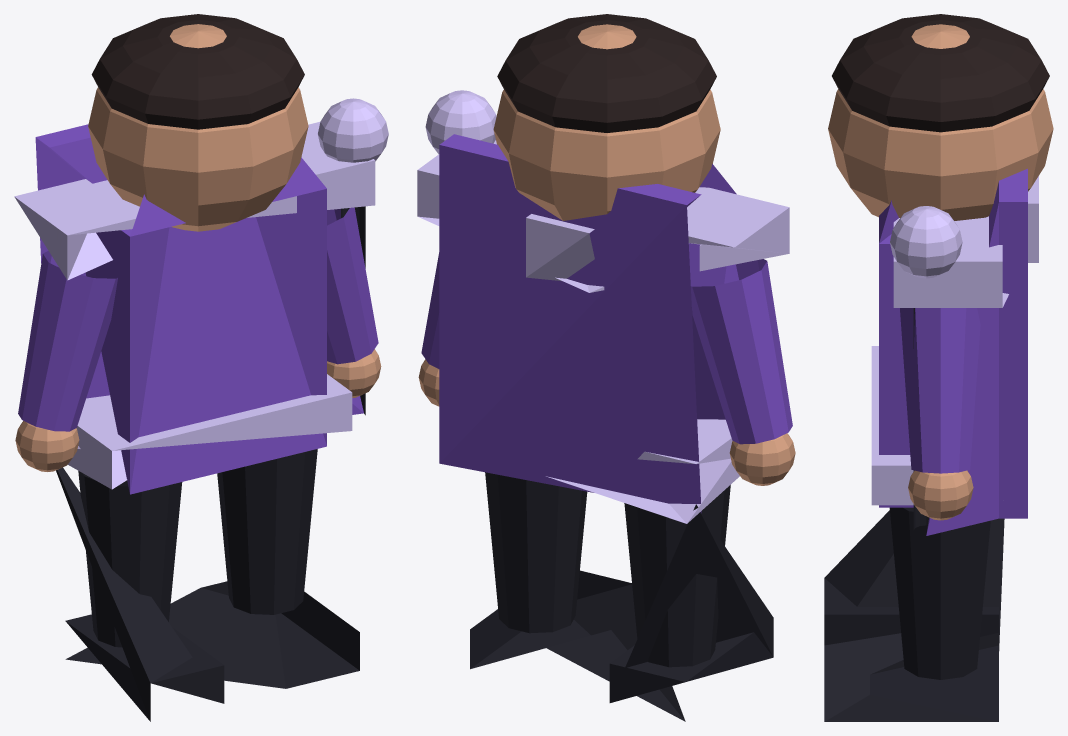
Rendered from Mage_Female.obj.
3 views of the same model, side by side, from view 1: azimuth 30°, elevation 25°; view 2: azimuth 150°, elevation 25°; view 3: azimuth 270°, elevation 25° (orthographic). The views are drawn at different scales.
Parts seen in each view (by area): view 1: Mage_Female; view 2: Mage_Female; view 3: Mage_Female.
Boxes of the visible parts, <box> form: Mage_Female: <box>14,14,388,721</box>; Mage_Female: <box>417,14,795,721</box>; Mage_Female: <box>824,14,1053,721</box>.
Size of the model in its own units: 1.16 by 1.93 by 0.63.
